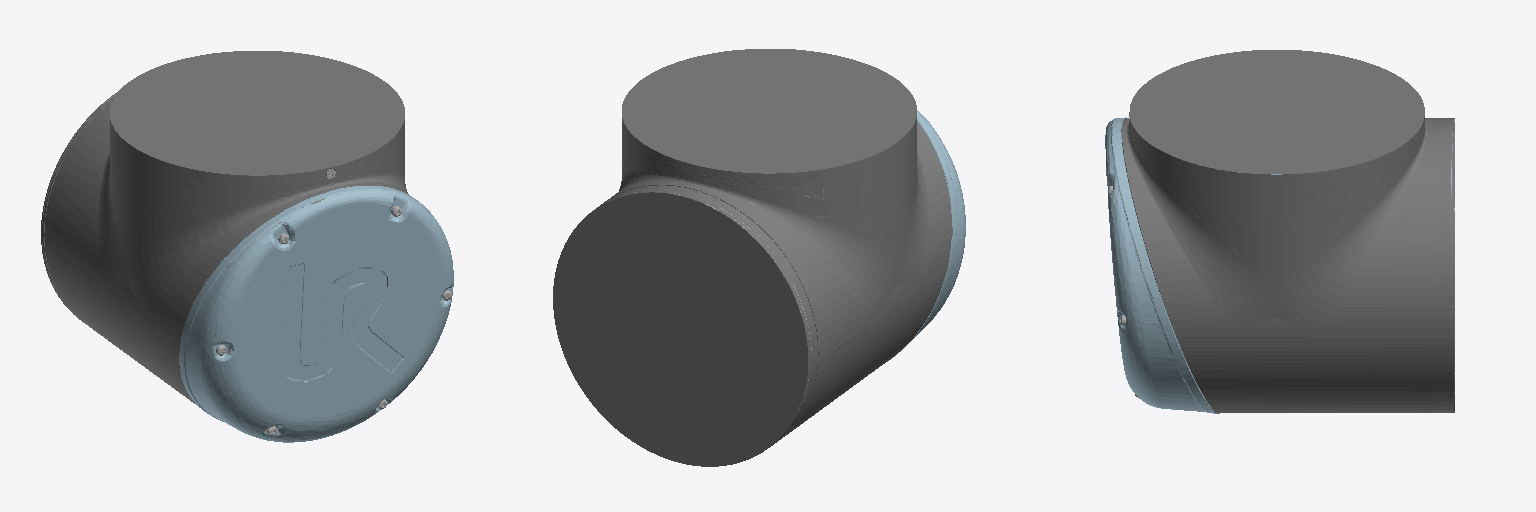
3 renders of one model, left to right at view 1: azimuth 30°, elevation 25°; view 2: azimuth 150°, elevation 25°; view 3: azimuth 270°, elevation 25°, orthographic.
Visible parts, largest first — view 1: shoulder; view 2: shoulder; view 3: shoulder.
Part boxes in pixels (x1,y1,x2,y2): shoulder: (41,51,453,442); shoulder: (553,49,965,466); shoulder: (1105,50,1454,413).
Size of the model in its own units: 0.1503 by 0.1612 by 0.1772.
1 materials, 1 textured.